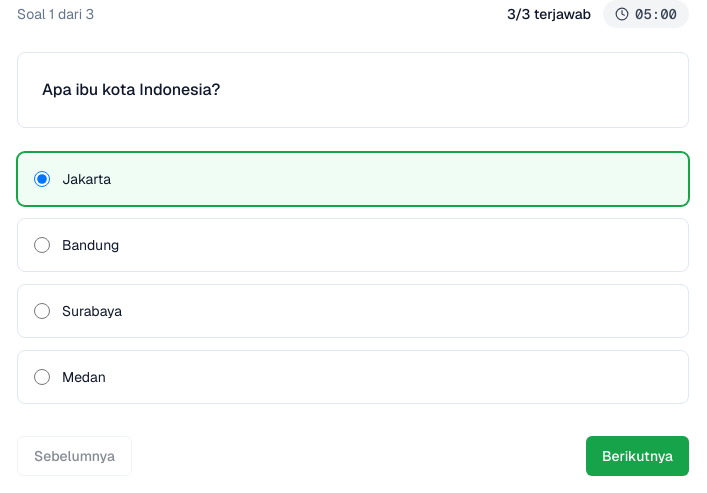
Test: QuizComponent › shows submitting state with spinner
Note: Navigate to last question
Click the button "Berikutnya": (638, 456) left=586, top=436, right=689, bottom=476
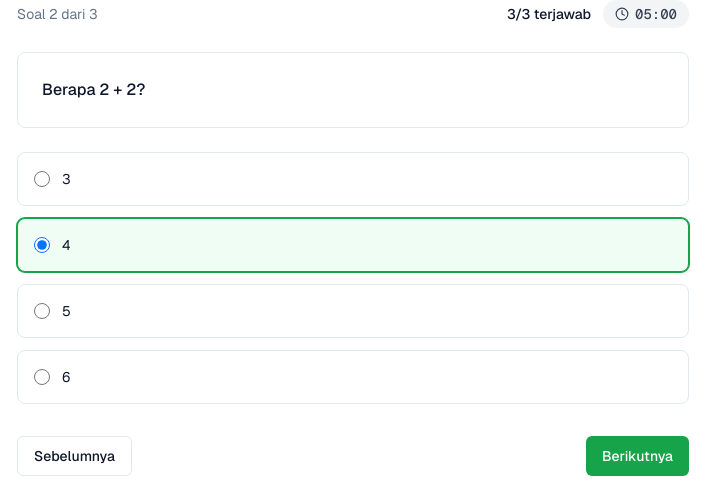
Click the button "Berikutnya": (638, 456) left=586, top=436, right=689, bottom=476
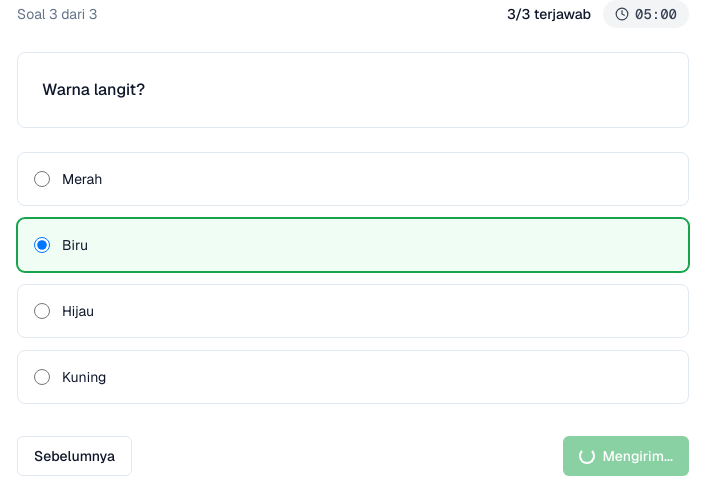
Expected: the button "Mengirim..." is shown, left=562, top=436, right=689, bottom=476
